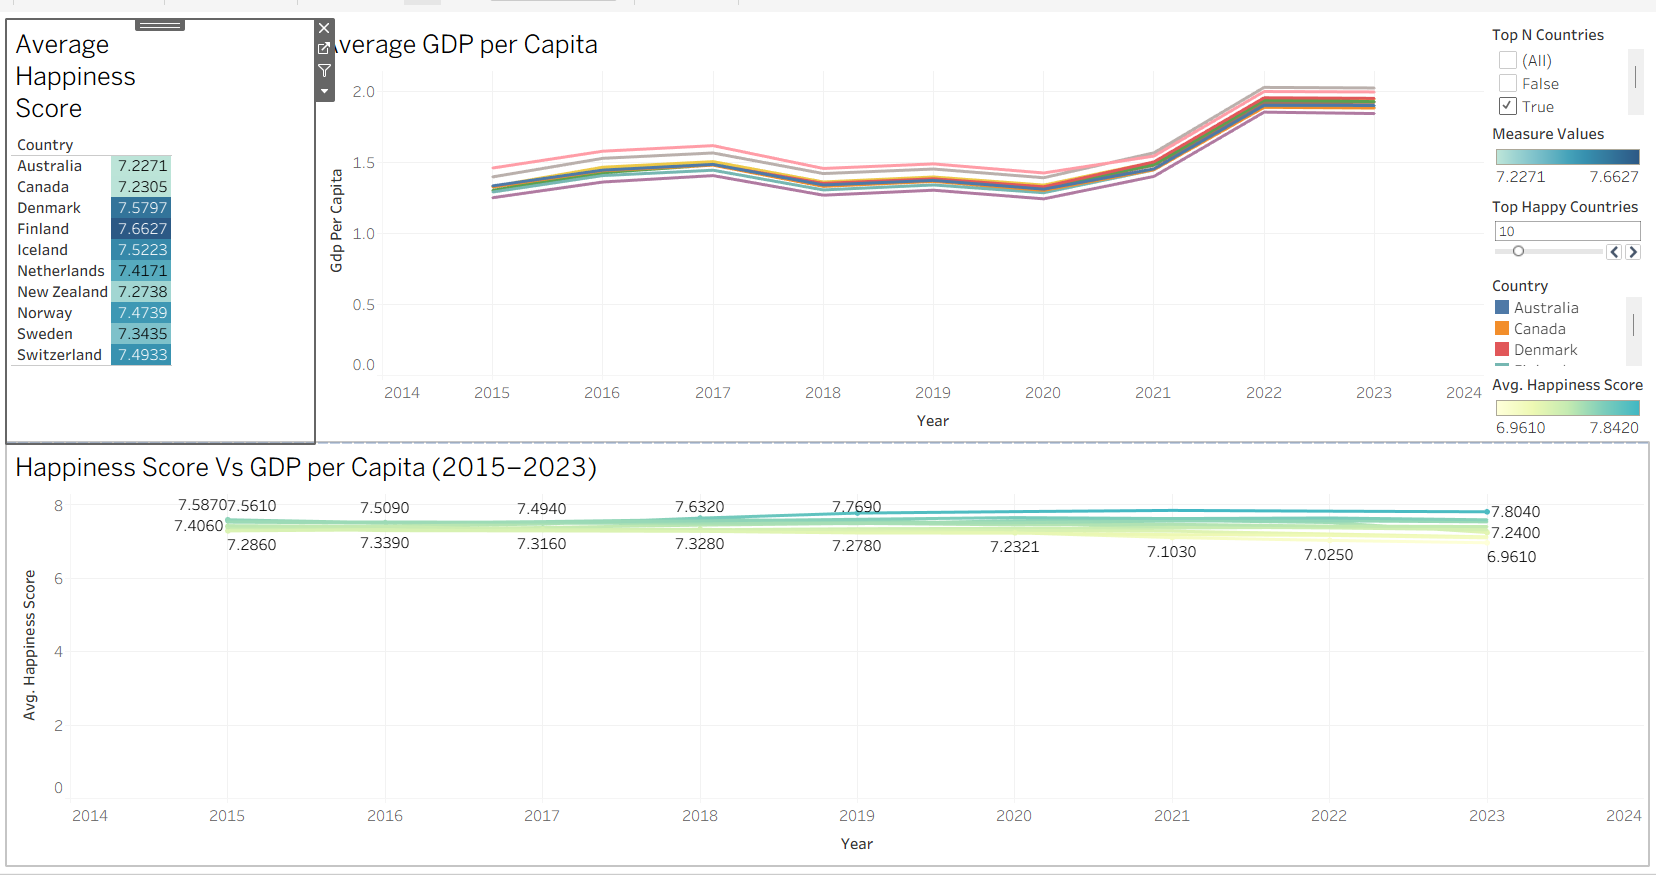

The dashboard page shown, as its layout file describes it:
{"tool":"tableau","page":{"name":"Effect of GDP per Capita on Happiness Score (Top 10 Most Happy Countries)","canvas":[1000,1000],"units":"permille","ordinal":1},"visuals":[{"type":"worksheet","title":"Average Happiness Score","mark":"Square","rows":["country"],"box":[4.7,9.3,185.7,490.7]},{"type":"worksheet","title":"Average GDP per Capita","mark":"Line","rows":["gdp_per_capita"],"cols":["year"],"box":[190.4,9.3,711.2,490.7]},{"type":"filter","title":"Average Happiness Score","param":"[federated.0ivh1go1498ge71654oet1wakh3u].[usr:Calculation_1737826522738769923:nk","box":[901.6,9.3,93.7,114.7]},{"type":"legend","title":"Average Happiness Score","param":"[federated.0ivh1go1498ge71654oet1wakh3u].[Multiple Values]","box":[901.6,124,93.7,84.8]},{"type":"parameter","param":"[Parameters].[Parameter 1]","box":[901.6,208.8,93.7,91.8]},{"type":"legend","title":"Average GDP per Capita","param":"[federated.0ivh1go1498ge71654oet1wakh3u].[none:country:nk]","box":[901.6,300.5,93.7,114.7]},{"type":"legend","title":"Happiness Score Vs GDP per Capita (2015–2023)","param":"[federated.0ivh1go1498ge71654oet1wakh3u].[avg:happiness_score:qk]","box":[901.6,415.2,93.7,84.8]},{"type":"worksheet","title":"Happiness Score Vs GDP per Capita (2015–2023)","mark":"Line","rows":["happiness_score"],"cols":["year"],"box":[4.7,500,990.6,490.7]}]}

Visuals, with their boxes on the dashboard's canvas, which has no fixed pixel size, in thousandths of its width and height (x1, y1, x2, y2). These are canvas units, not pixel positions in the 1656x875 screenshot, which may show the page scaled, cropped or inside an application window:
"Average Happiness Score" worksheet (Square marks): Rect(5, 9, 190, 500)
"Average GDP per Capita" worksheet (Line marks): Rect(190, 9, 902, 500)
"Average Happiness Score" filter: Rect(902, 9, 995, 124)
"Average Happiness Score" legend: Rect(902, 124, 995, 209)
parameter: Rect(902, 209, 995, 301)
"Average GDP per Capita" legend: Rect(902, 300, 995, 415)
"Happiness Score Vs GDP per Capita (2015–2023)" legend: Rect(902, 415, 995, 500)
"Happiness Score Vs GDP per Capita (2015–2023)" worksheet (Line marks): Rect(5, 500, 995, 991)
